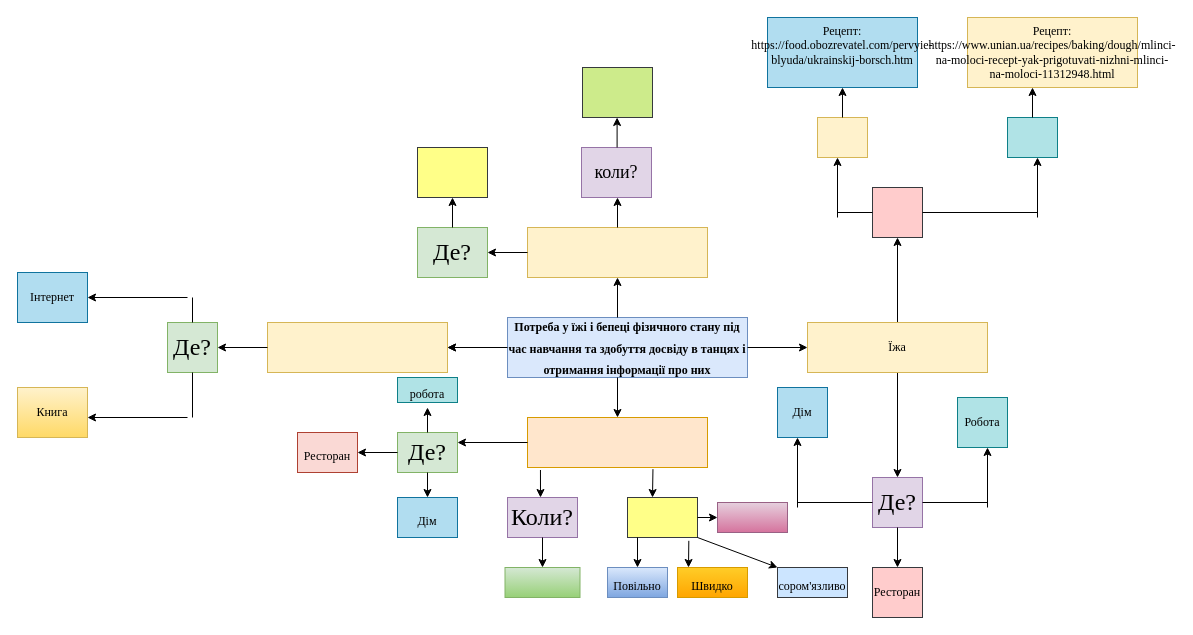
This 1193x635 diagram has some shape labels left out. The centre of each missing label's shape, as x and y in pixels:
Безпека фізичного стану: (x=617, y=252)
Борщ: (x=842, y=137)
Заняття танцями: (x=617, y=442)
Млинці: (x=1032, y=137)
Отримання інформації: (x=357, y=347)
Пристрасно: (x=752, y=517)
під час занять танцями: (x=617, y=92)
У вільний час: (x=542, y=582)
У місці проведення занять: (x=452, y=172)
Що?: (x=897, y=212)
Як?: (x=662, y=517)
